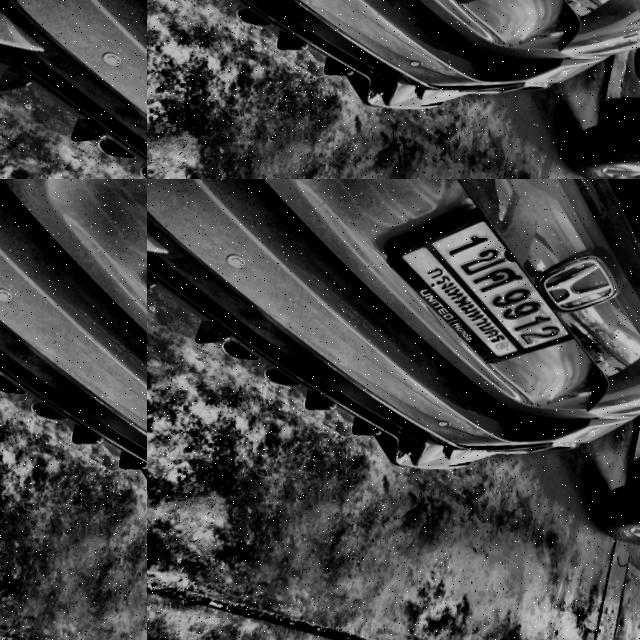license-plate: (375, 195, 593, 374)
